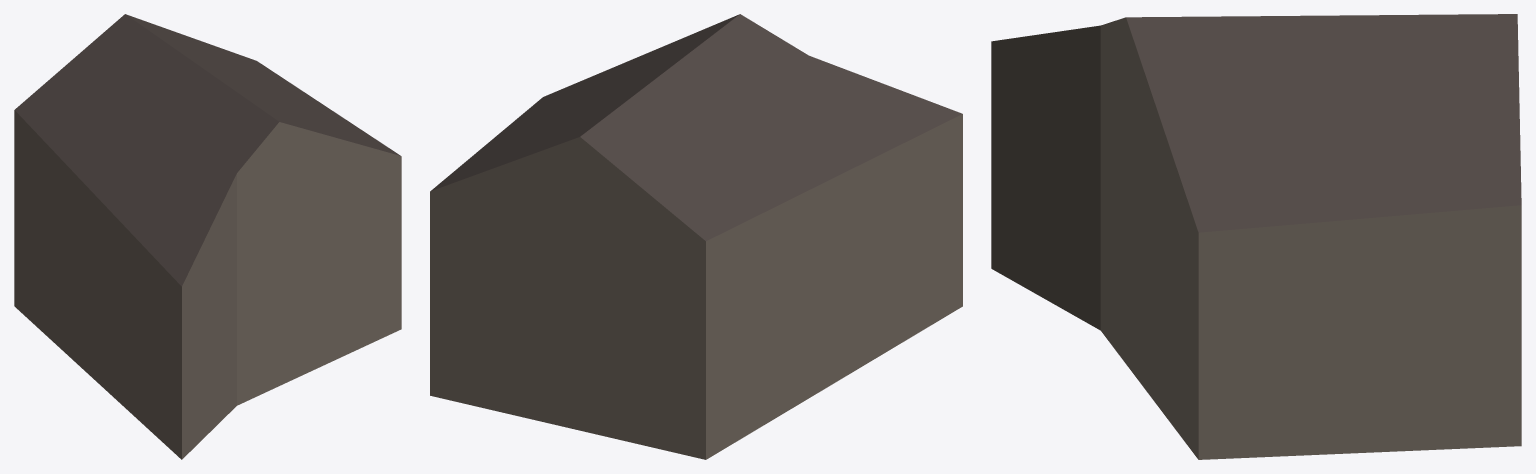
3 renders of one model, left to right at view 1: azimuth 30°, elevation 25°; view 2: azimuth 150°, elevation 25°; view 3: azimuth 270°, elevation 25°, orthographic. The views are drawn at different scales.
Parts seen in each view (by area): view 1: HP-w1198845835; view 2: HP-w1198845835; view 3: HP-w1198845835.
Boxes of the visible parts, x1,y1,x2,y2 form: HP-w1198845835: (14,14,401,459); HP-w1198845835: (430,14,962,459); HP-w1198845835: (991,14,1521,459).
Size of the model in its own units: 10.82 by 9.15 by 12.68.
